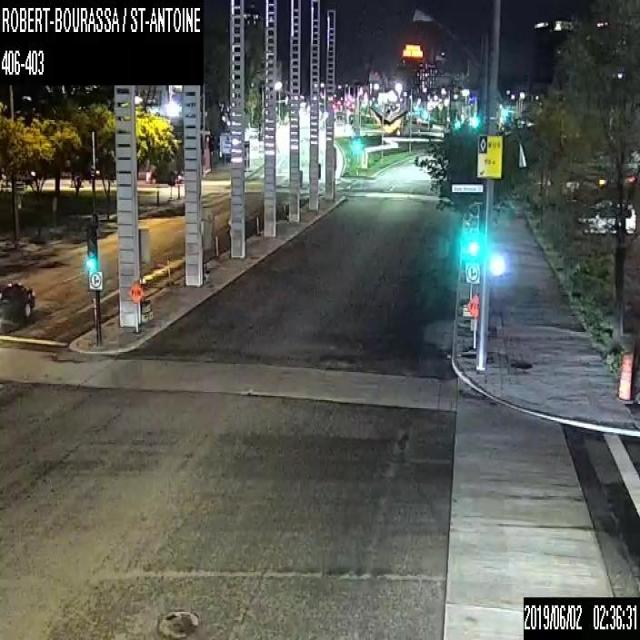construction: (137, 227, 153, 321), (614, 351, 634, 403), (128, 280, 144, 335), (466, 292, 479, 356), (202, 216, 214, 282)
vehicle: (0, 278, 35, 330), (69, 213, 101, 242)
